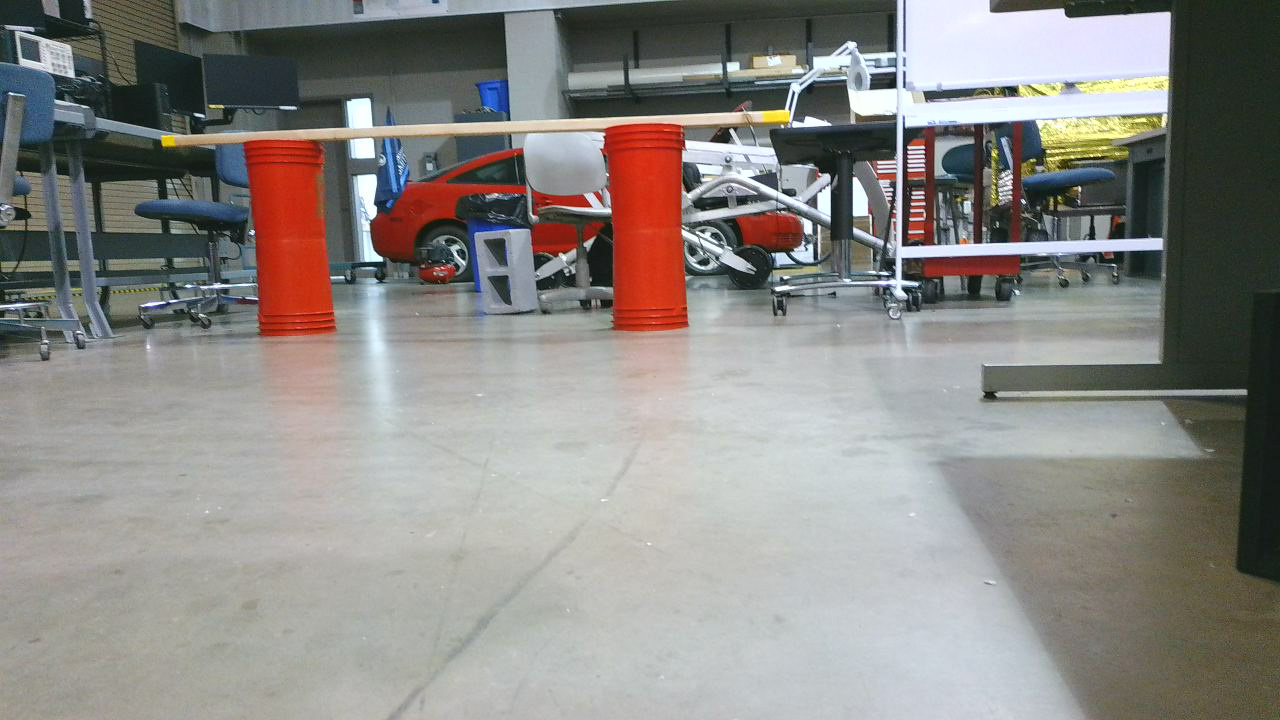red_bucket_arch: (246, 126, 697, 349)
